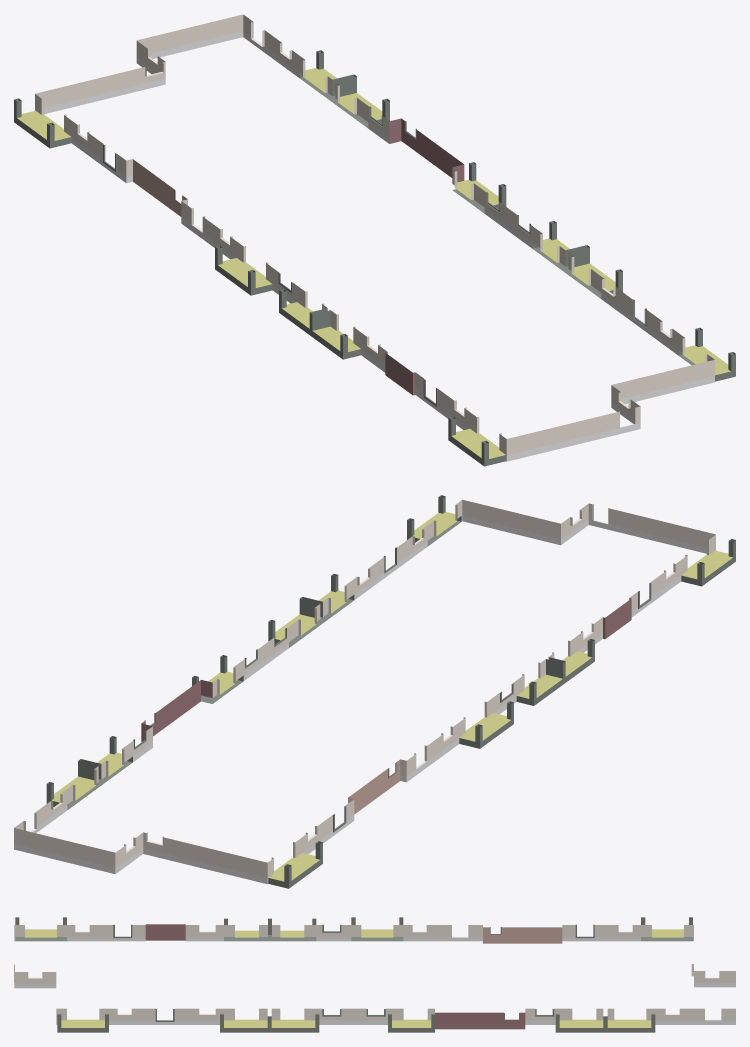
The model's file is wall_0.fbx.
3 renders of one model, top to bottom at view 1: azimuth 30°, elevation 25°; view 2: azimuth 150°, elevation 25°; view 3: azimuth 270°, elevation 25°, orthographic. The views are drawn at different scales.
Visible parts, largest first — view 1: wall_0; view 2: wall_0; view 3: wall_0.
Part boxes in pixels (<box>): wall_0: <box>14,14,735,466</box>; wall_0: <box>14,495,735,888</box>; wall_0: <box>14,917,735,1032</box>.
Size of the model in its own units: 2328 by 180 by 7192.
